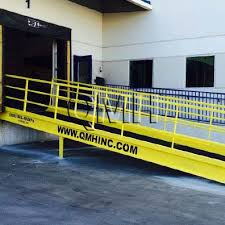Yard Ramp: (5, 73, 225, 184)
